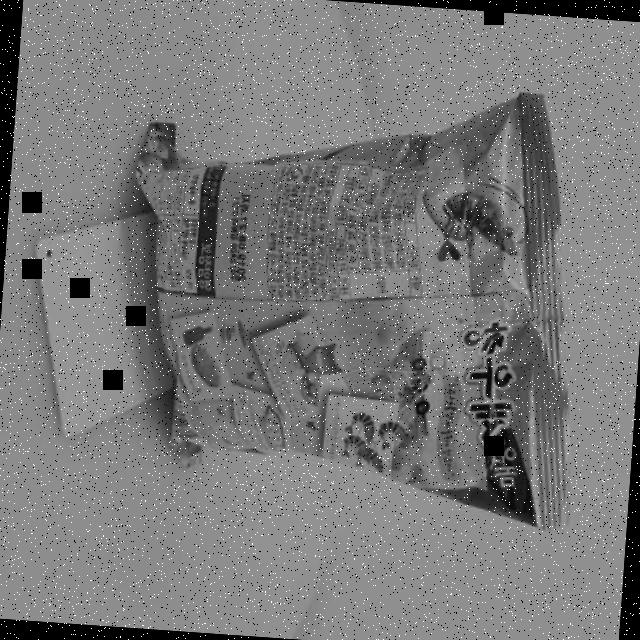snack_bag: (103, 59, 610, 536)
